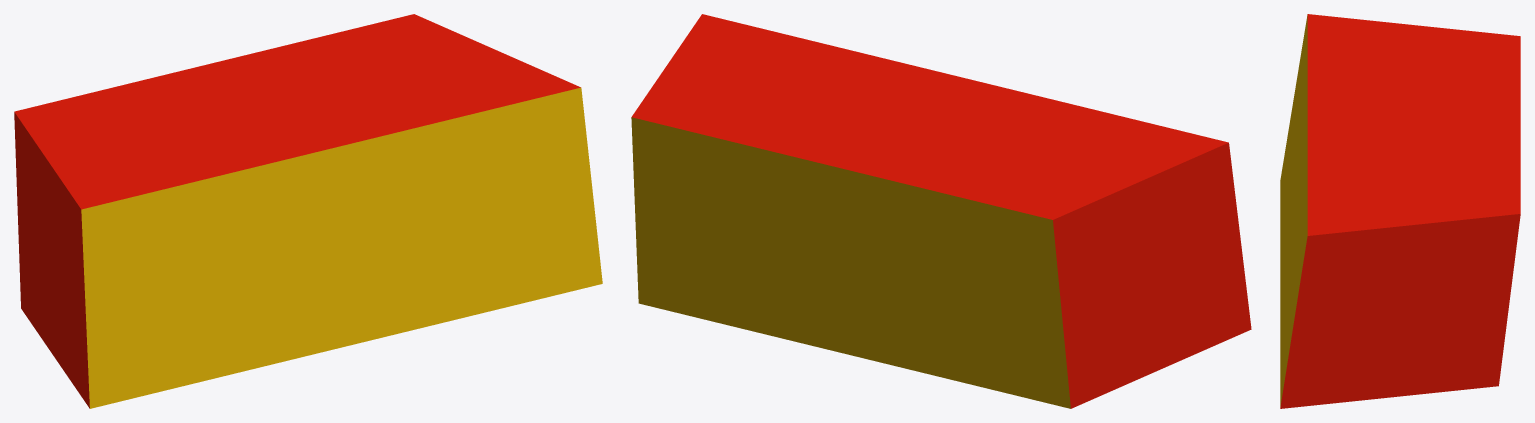
File: ConeBlock-n13.fbx
3 renders of one model, left to right at view 1: azimuth 30°, elevation 25°; view 2: azimuth 150°, elevation 25°; view 3: azimuth 270°, elevation 25°, orthographic. The views are drawn at different scales.
Parts seen in each view (by area): view 1: Cone; view 2: Cone; view 3: Cone.
Boxes of the visible parts, box(x1,y1,x2,y2) form: Cone: box(14, 14, 602, 408); Cone: box(631, 14, 1251, 408); Cone: box(1280, 14, 1520, 408).
Size of the model in its own units: 718 by 250 by 320.
